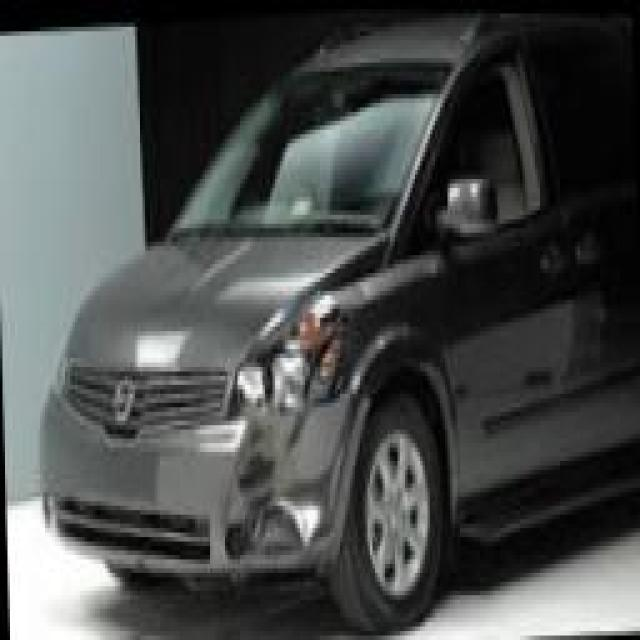replaceable: (245, 324, 347, 564)
